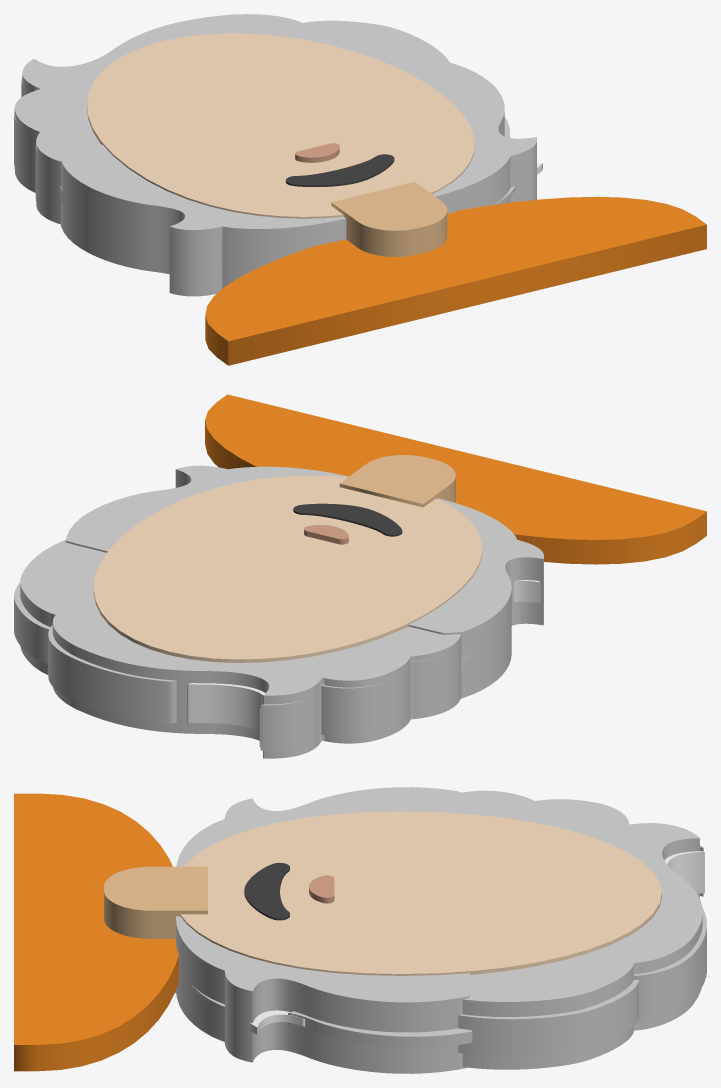
Rendered from emoji_u1f9d1_1f3fb_200d_1f9b3.glb.
3 renders of one model, top to bottom at view 1: azimuth 30°, elevation 25°; view 2: azimuth 150°, elevation 25°; view 3: azimuth 270°, elevation 25°, orthographic. The views are drawn at different scales.
Parts seen in each view (by area): view 1: emoji_u1f9d1_1f3fb_200d_1f9b3; view 2: emoji_u1f9d1_1f3fb_200d_1f9b3; view 3: emoji_u1f9d1_1f3fb_200d_1f9b3.
Boxes of the visible parts, box(x1,y1,x2,y2) form: emoji_u1f9d1_1f3fb_200d_1f9b3: box(14, 14, 706, 365); emoji_u1f9d1_1f3fb_200d_1f9b3: box(14, 394, 706, 758); emoji_u1f9d1_1f3fb_200d_1f9b3: box(14, 787, 706, 1073).
Bounding box in the file's own units: 0.0287 × 0.0046 × 0.0334.
